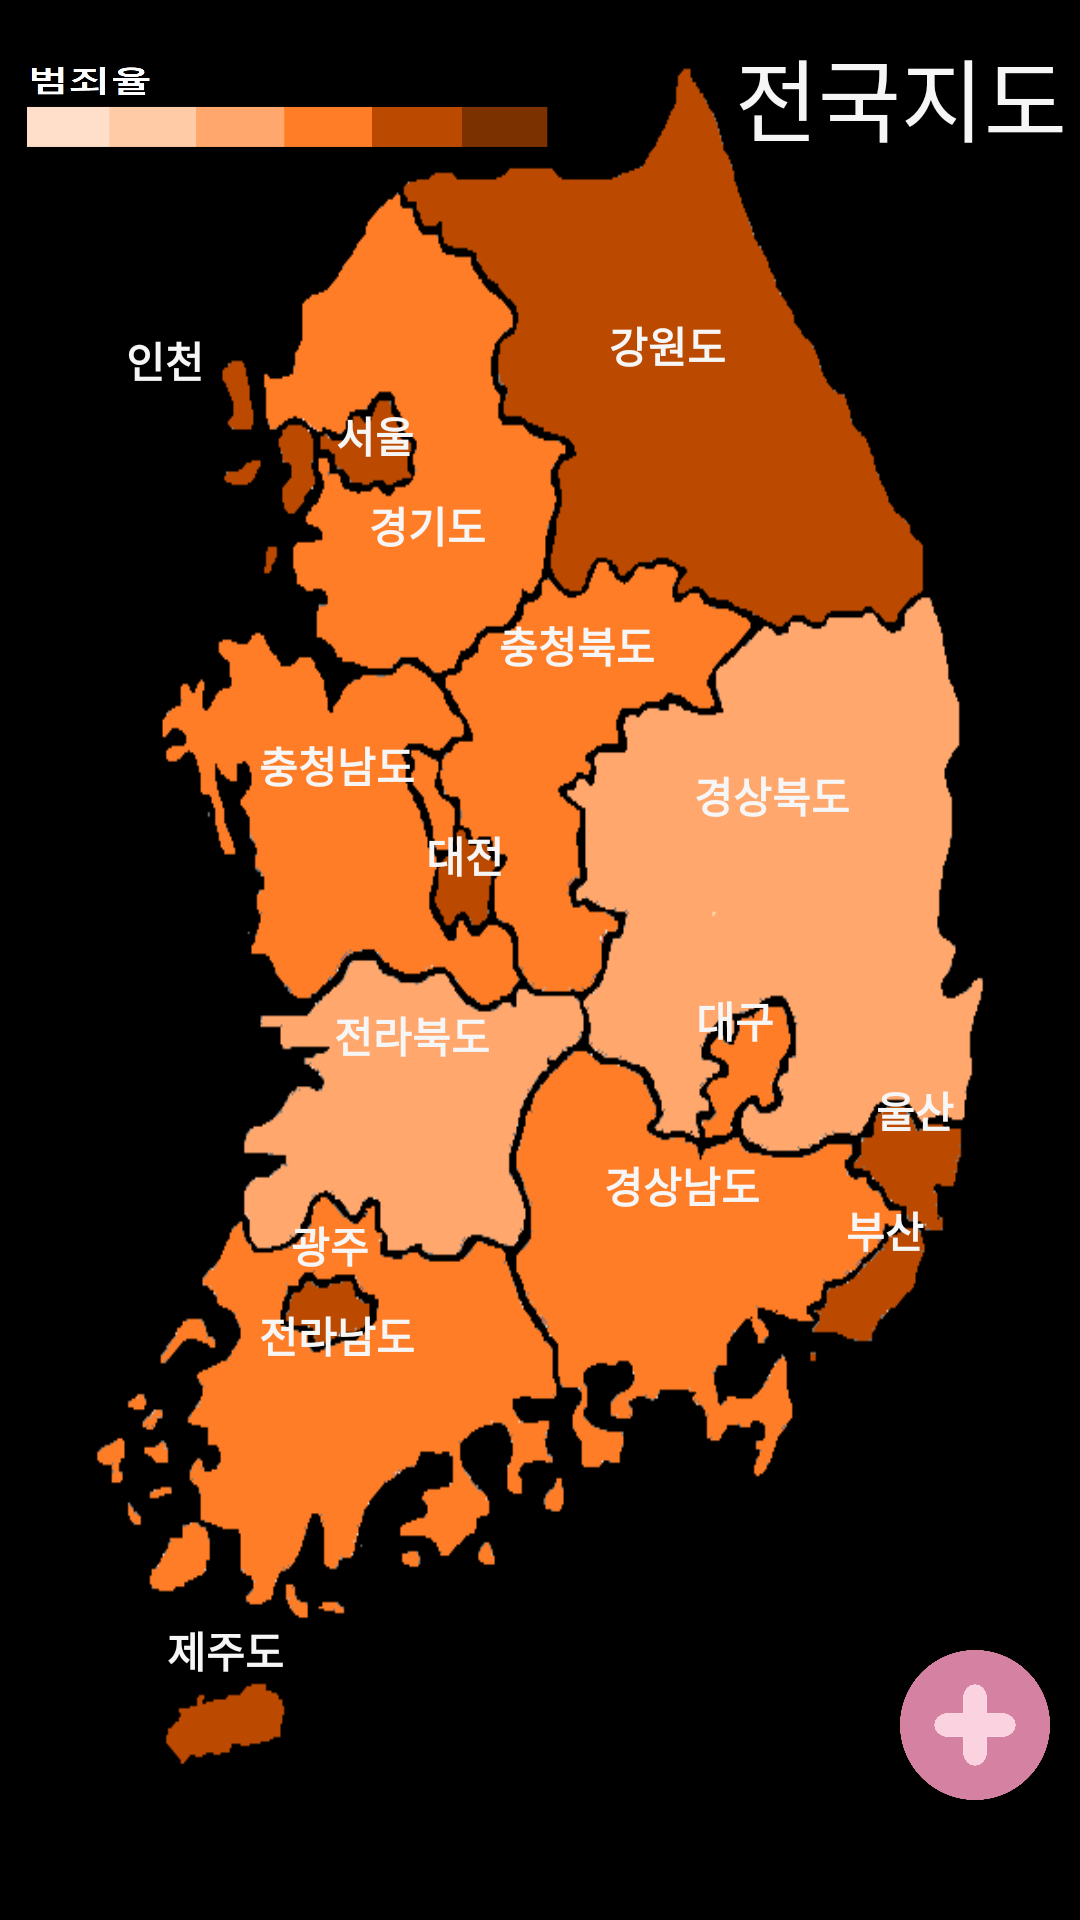

Icons on this 1080*1920 Android screen, each with the point to tap as (x,y):
plus: (975,1725)
